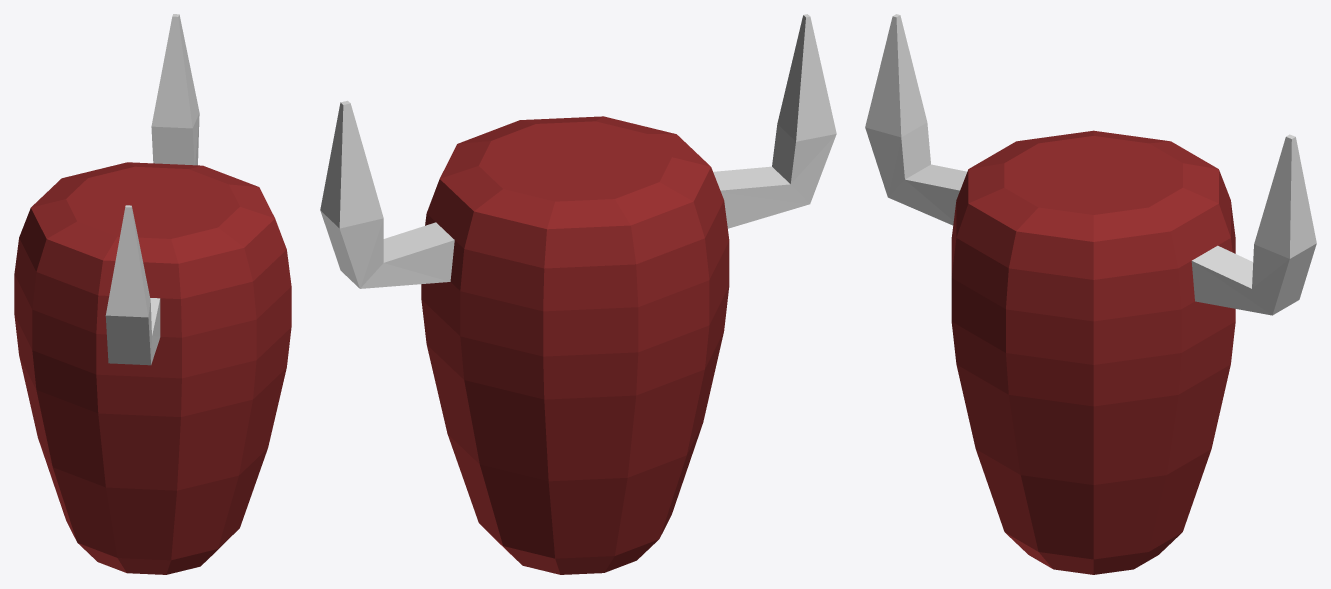
The model's file is carneBuey.fbx.
3 views of the same model, side by side, from view 1: azimuth 30°, elevation 25°; view 2: azimuth 150°, elevation 25°; view 3: azimuth 270°, elevation 25° (orthographic). The views are drawn at different scales.
Parts seen in each view (by area): view 1: Group002, Cylinder004; view 2: Cylinder004, Group002; view 3: Cylinder004, Group002.
Boxes of the visible parts, x1,y1,x2,y2 form: Group002: [14, 199, 291, 574]; Cylinder004: [31, 14, 274, 218]; Cylinder004: [320, 100, 638, 574]; Group002: [520, 14, 836, 572]; Cylinder004: [1006, 134, 1316, 574]; Group002: [865, 14, 1169, 568].
Bounding box in the file's own units: 0.6065 × 0.9086 × 0.7923.
